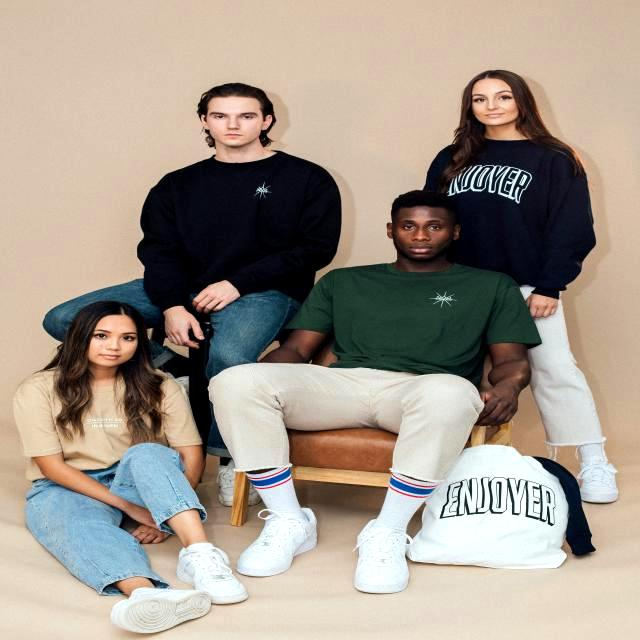no_head_wear: (40, 300, 164, 444), (439, 70, 586, 191), (197, 82, 275, 124), (391, 190, 459, 224), (260, 127, 270, 145)
person: (207, 188, 545, 594), (43, 83, 341, 516), (423, 70, 616, 503), (14, 301, 243, 633)
